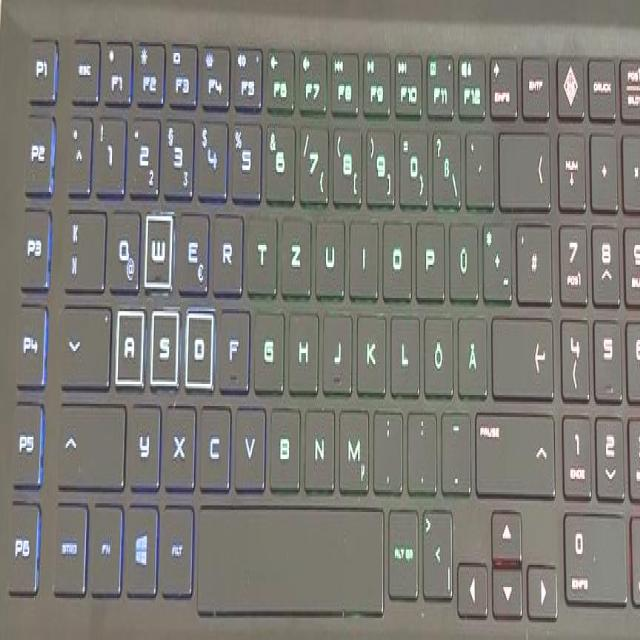0: (396, 119, 426, 201)
1: (92, 106, 123, 188)
2: (125, 106, 159, 192)
3: (160, 108, 193, 192)
4: (195, 111, 226, 195)
5: (229, 115, 260, 196)
6: (263, 115, 294, 199)
7: (297, 115, 327, 199)
8: (330, 117, 359, 201)
9: (363, 119, 393, 201)
a: (113, 300, 143, 380)
accent: (462, 121, 491, 201)
ae: (455, 305, 485, 391)
alt-left: (158, 497, 193, 592)
altgr-right: (385, 497, 417, 594)
b: (266, 397, 298, 486)
c: (196, 395, 230, 486)
caret: (66, 108, 90, 190)
comma: (370, 399, 401, 488)
d: (183, 302, 213, 382)
del: (496, 121, 549, 203)
e: (174, 201, 207, 289)
enter: (489, 307, 552, 393)
f: (216, 298, 248, 386)
g: (251, 300, 283, 386)
h: (286, 300, 316, 389)
hash: (513, 214, 550, 298)
i: (347, 210, 376, 291)
j: (320, 303, 350, 389)
k: (354, 303, 385, 389)
keyboard: (3, 0, 640, 640)
l: (387, 305, 417, 391)
less: (420, 501, 451, 596)
m: (336, 397, 368, 488)
minus: (438, 402, 469, 488)
n: (302, 397, 334, 486)
o: (380, 212, 411, 296)
oe: (421, 307, 452, 391)
p: (413, 212, 443, 296)
plus: (480, 214, 510, 296)
point: (404, 402, 435, 486)
q: (105, 201, 139, 287)
r: (210, 203, 242, 289)
s: (147, 303, 177, 380)
shift-left: (57, 391, 124, 483)
shift-lock: (59, 296, 109, 382)
shift-right: (472, 402, 552, 490)
space: (196, 492, 383, 611)
ss: (430, 121, 458, 201)
strg-left: (51, 495, 88, 592)
t: (244, 205, 275, 289)
tab: (64, 201, 104, 285)
u: (313, 208, 343, 294)
ue: (447, 212, 476, 296)
v: (231, 397, 264, 486)
w: (142, 206, 171, 283)
x: (161, 395, 194, 483)
y: (127, 402, 160, 490)
z: (278, 206, 310, 292)
